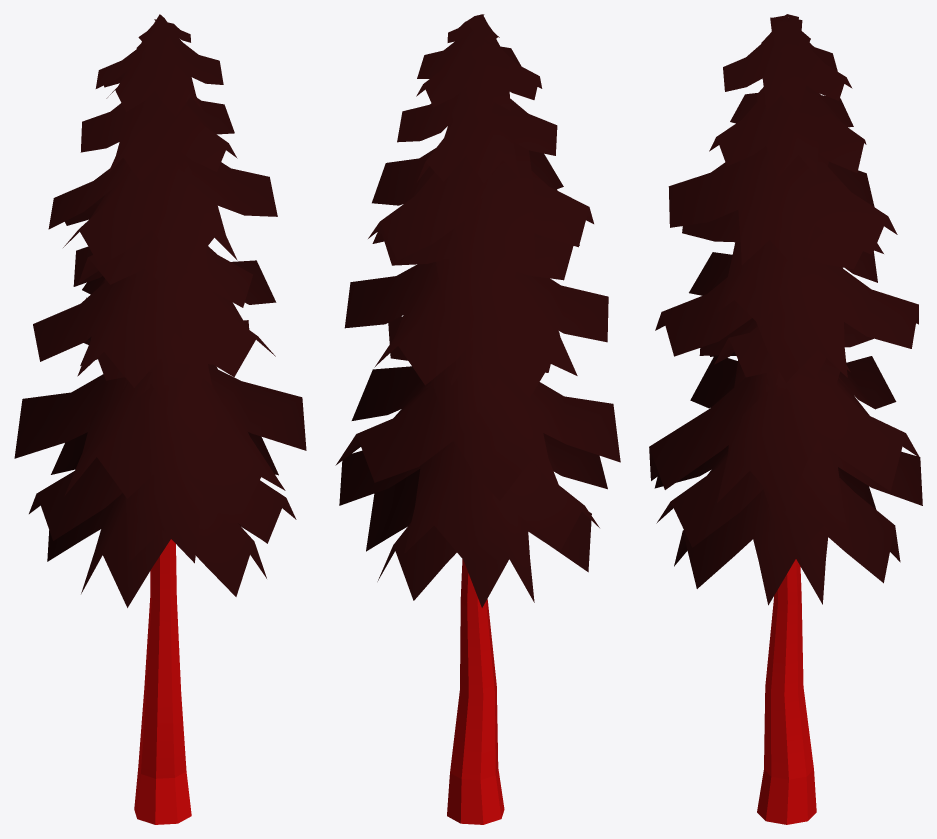
The model's file is SM_Tree_Pine_Large_01.fbx.
The picture shows the model from 3 angles, left to right: view 1: azimuth 30°, elevation 25°; view 2: azimuth 150°, elevation 25°; view 3: azimuth 270°, elevation 25°; orthographic projection.
Visible parts, largest first — view 1: SM_Tree_Pine_Large_01; view 2: SM_Tree_Pine_Large_01; view 3: SM_Tree_Pine_Large_01.
Part boxes in pixels (x1,y1,x2,y2): SM_Tree_Pine_Large_01: [14, 14, 306, 824]; SM_Tree_Pine_Large_01: [335, 14, 620, 824]; SM_Tree_Pine_Large_01: [649, 14, 922, 824].
Size of the model in its own units: 244 by 753 by 234.
